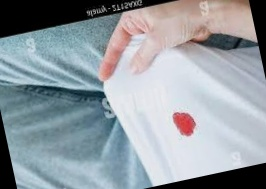blood: (170, 108, 198, 141)
